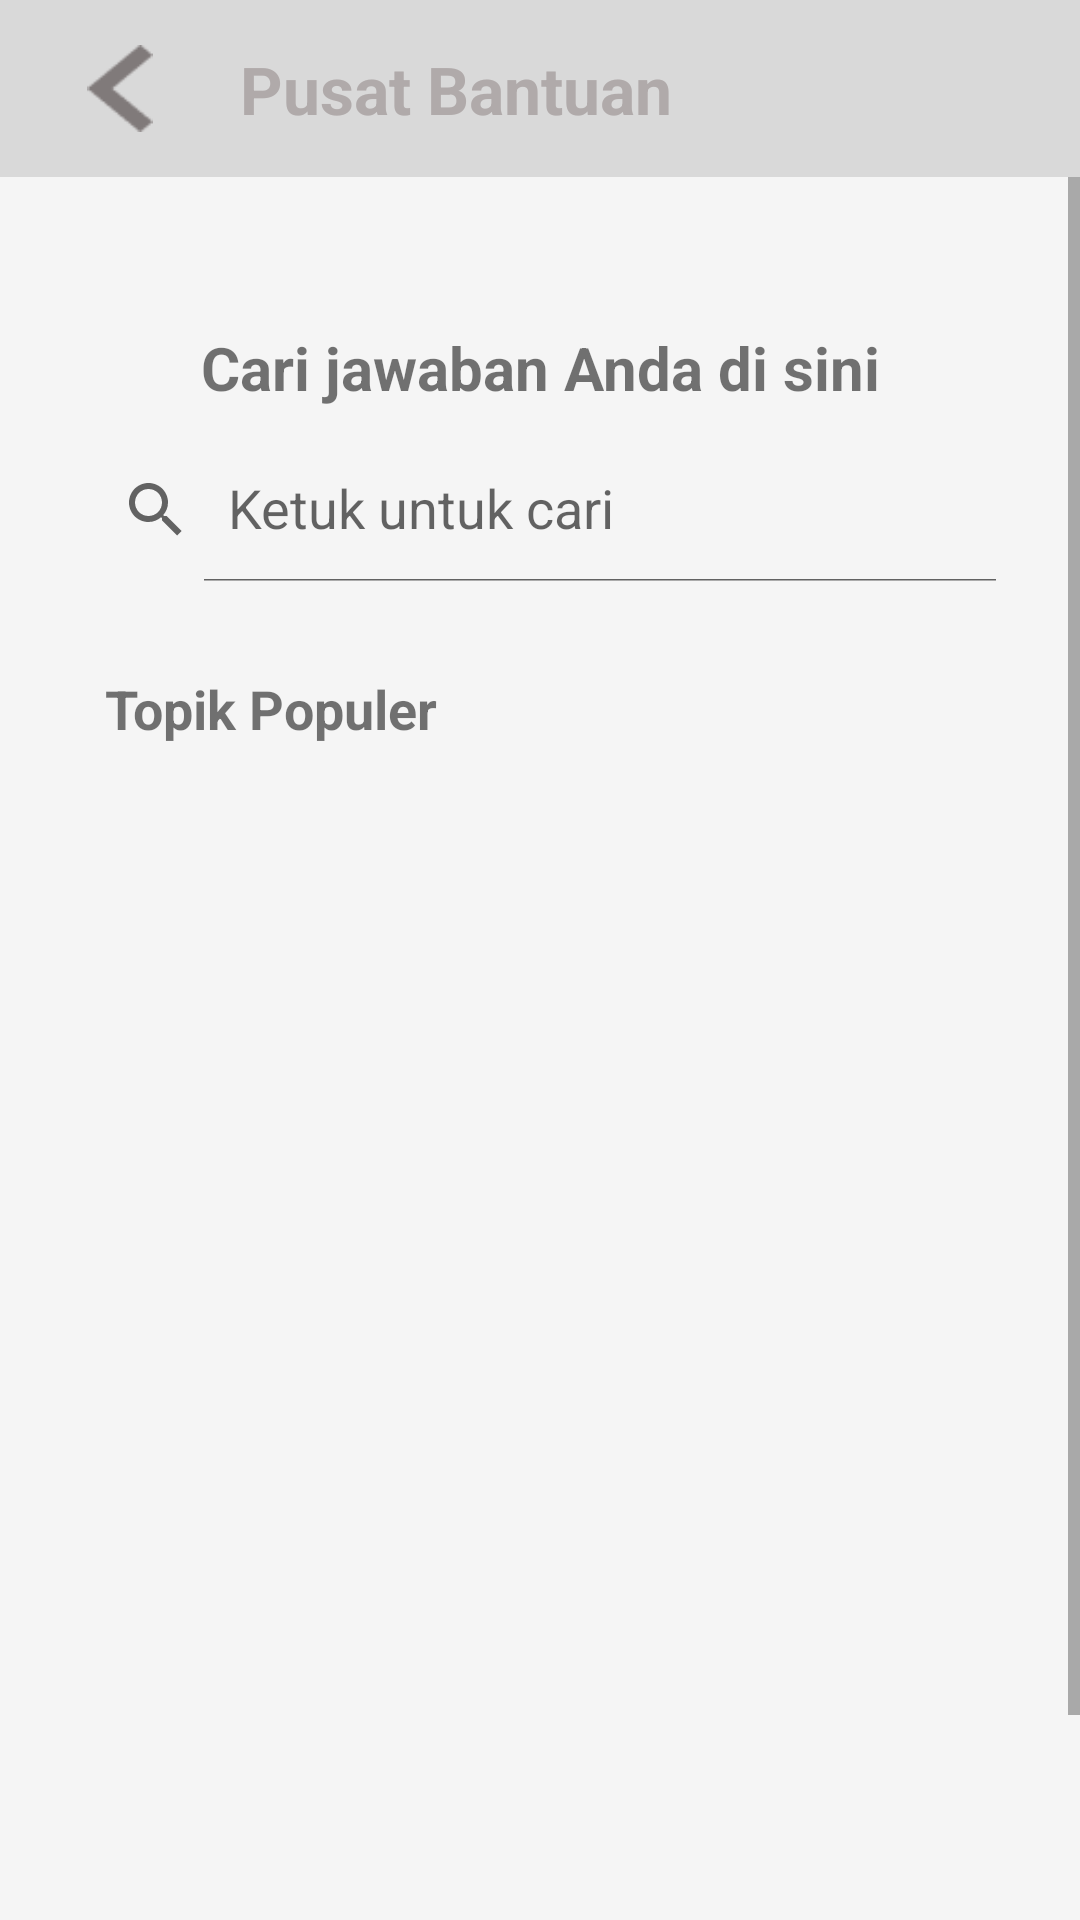

Icons on this 1080 × 1920 Android screen, each with its box as (x1, y1, x2, y2):
back: (87, 45, 153, 132)
